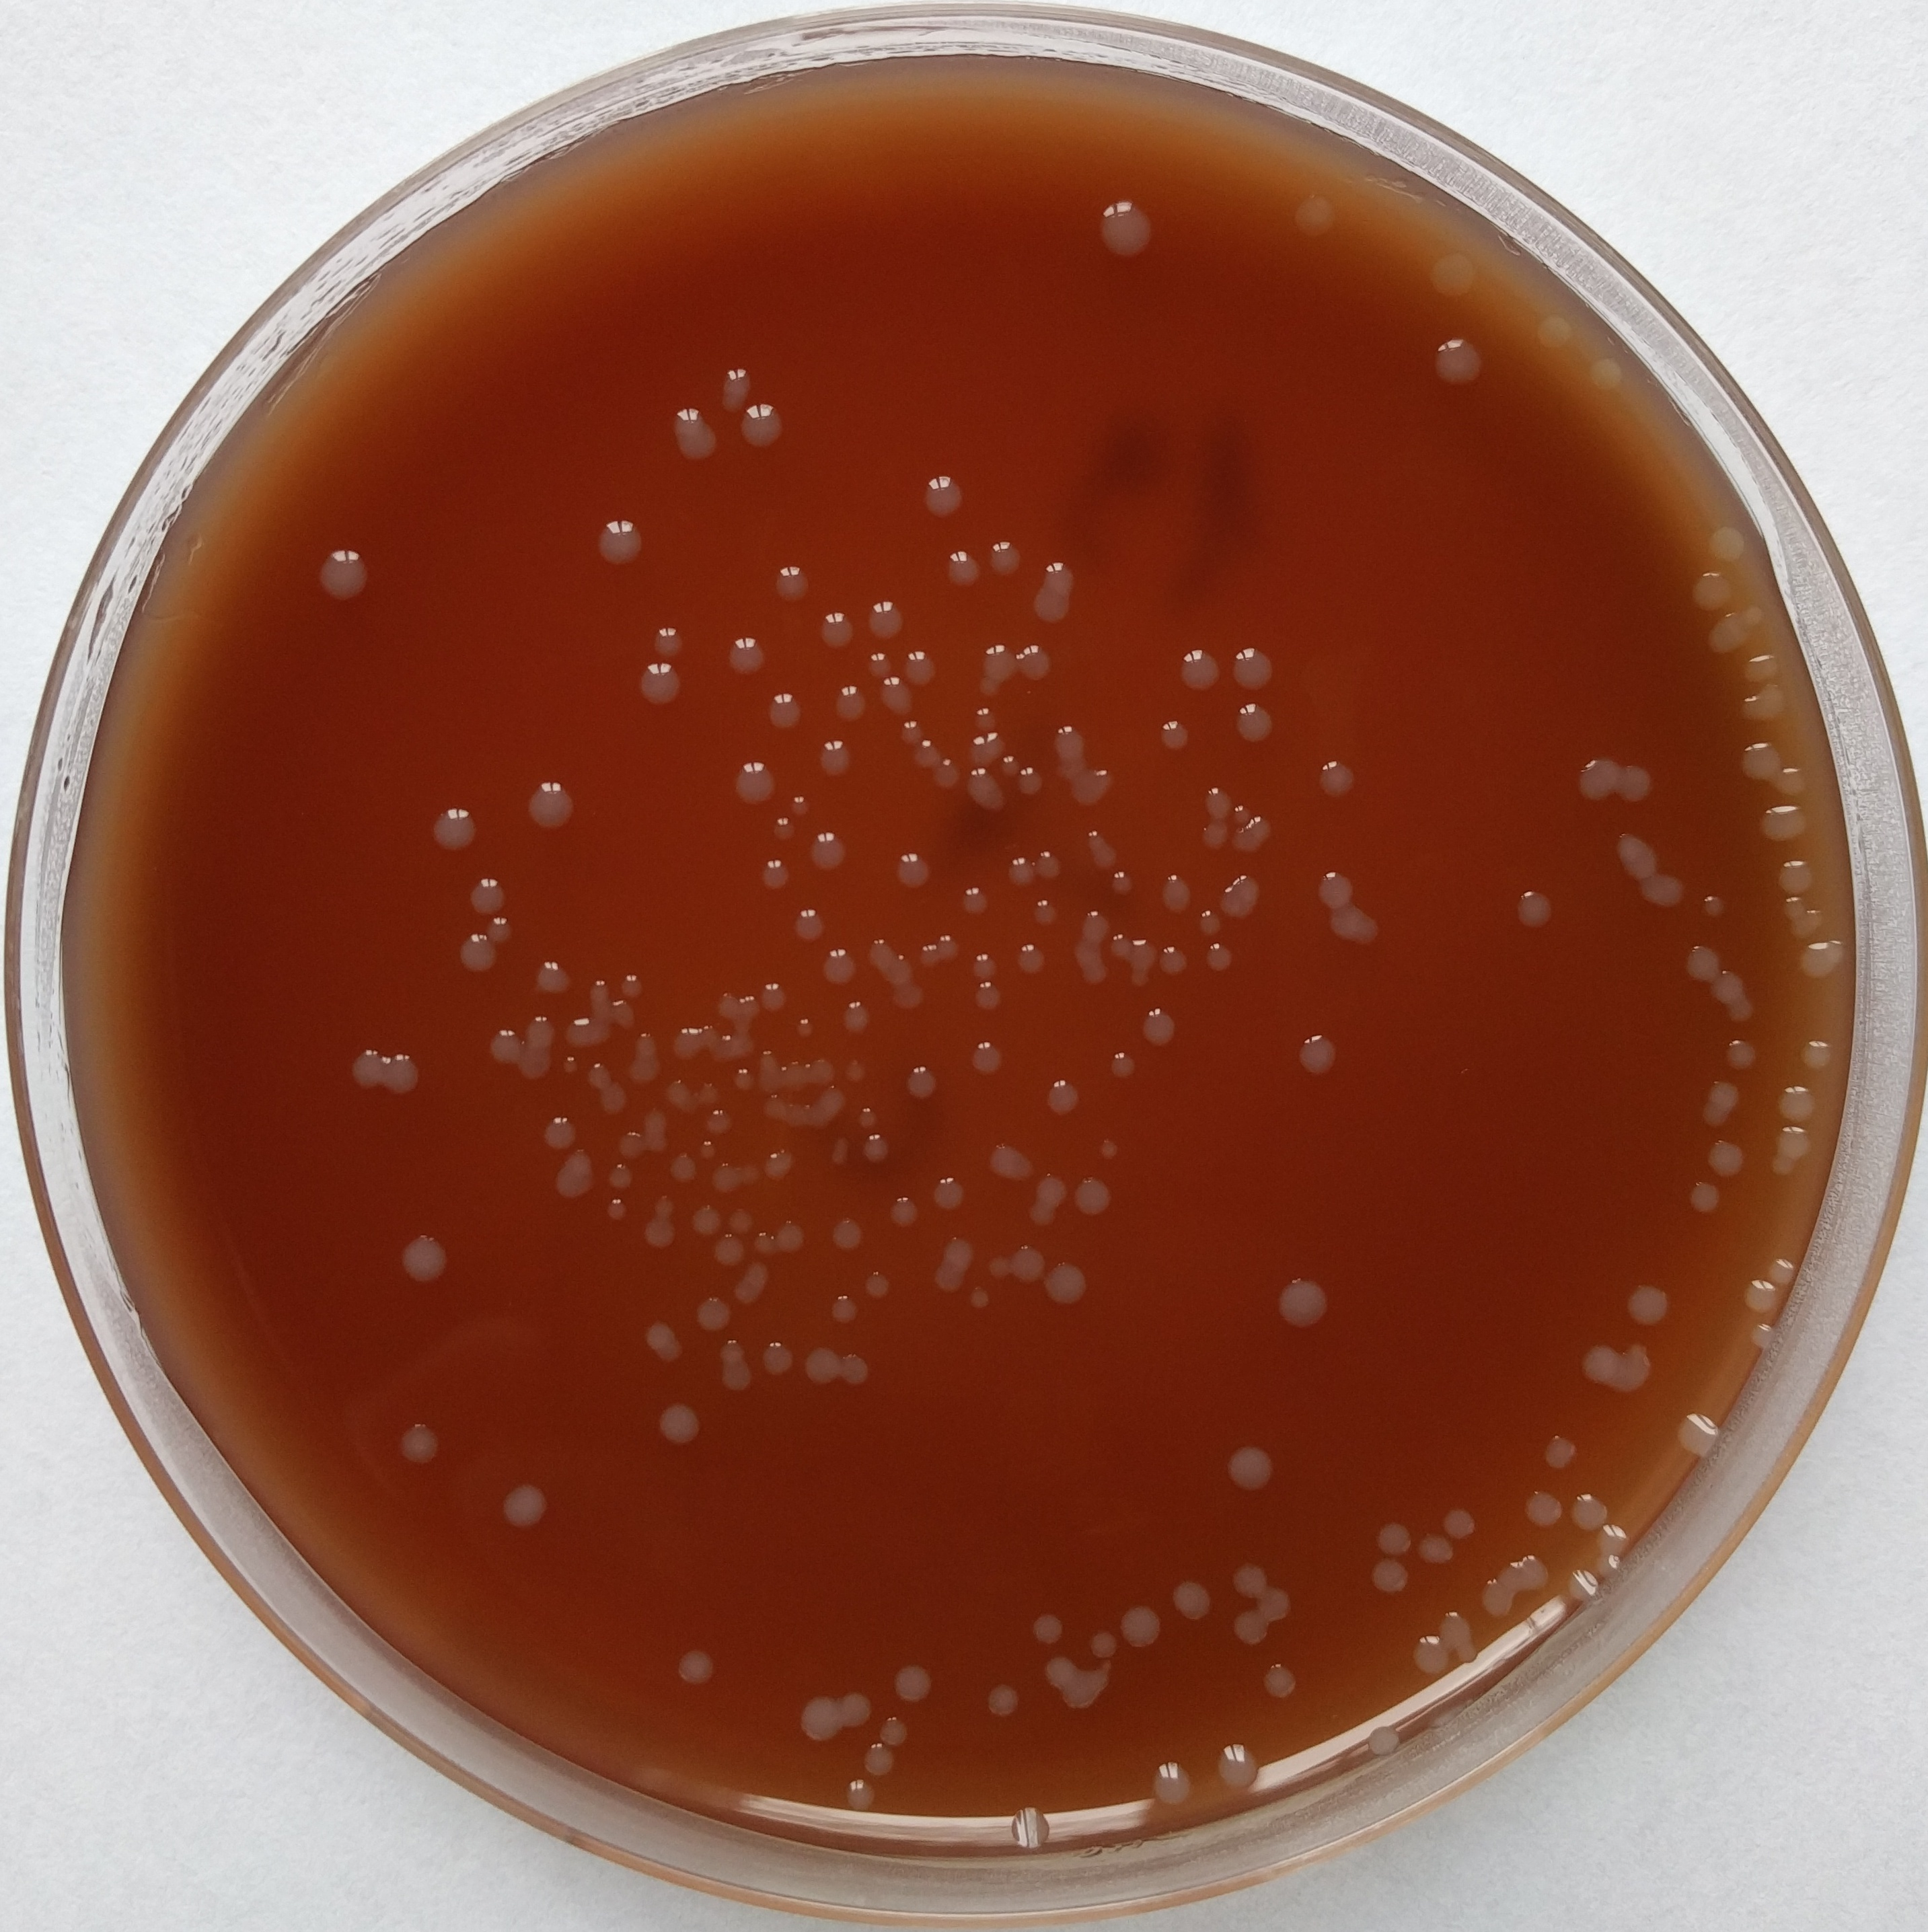sp16: (560, 978, 653, 1056), (1088, 184, 1162, 267), (302, 546, 383, 611), (1031, 1655, 1121, 1713), (667, 1021, 761, 1075), (517, 772, 583, 837), (493, 1476, 560, 1540), (579, 517, 655, 572), (659, 401, 729, 459), (1607, 816, 1665, 887), (1753, 789, 1820, 849), (542, 1148, 604, 1211), (1428, 332, 1488, 396), (392, 1231, 459, 1287), (1273, 1275, 1335, 1335), (1216, 1445, 1285, 1498), (1626, 864, 1691, 918), (800, 819, 855, 885), (766, 556, 832, 609), (734, 397, 793, 456), (1621, 1277, 1679, 1335), (1421, 245, 1481, 302), (1225, 639, 1287, 694), (1172, 641, 1231, 698), (999, 1800, 1056, 1858), (1287, 189, 1342, 249), (1209, 1736, 1264, 1796), (726, 756, 780, 816), (388, 1418, 450, 1471), (1116, 1595, 1171, 1653), (422, 802, 482, 855), (918, 468, 969, 530), (1789, 931, 1852, 980), (1702, 600, 1757, 657), (1670, 1407, 1725, 1464), (1736, 676, 1796, 728), (1287, 1026, 1347, 1077), (1144, 1755, 1199, 1810), (791, 1692, 846, 1747), (1570, 749, 1621, 807), (1474, 1559, 1520, 1623), (1563, 1487, 1615, 1542), (1432, 1607, 1480, 1667), (630, 1319, 690, 1367), (346, 1044, 394, 1104), (1610, 1339, 1656, 1400), (796, 1342, 849, 1395), (883, 1660, 939, 1709), (1308, 751, 1367, 798), (1367, 1517, 1425, 1565), (860, 599, 913, 650), (1517, 1485, 1570, 1536), (1165, 1575, 1218, 1626), (810, 602, 867, 650), (959, 763, 1006, 819), (1322, 901, 1381, 947), (1008, 639, 1068, 683), (976, 1143, 1036, 1187), (722, 630, 773, 682), (1003, 1240, 1054, 1291), (1231, 800, 1280, 853), (964, 1035, 1017, 1084), (828, 678, 876, 733), (1066, 929, 1114, 984), (1676, 929, 1721, 985), (648, 1400, 704, 1446), (664, 1644, 724, 1687), (936, 542, 983, 595), (1533, 1429, 1585, 1476), (629, 657, 683, 703), (713, 989, 759, 1044), (659, 1074, 717, 1116), (710, 367, 761, 415), (1040, 551, 1088, 602), (874, 671, 922, 722), (1734, 735, 1781, 786), (1771, 758, 1822, 805), (1045, 1257, 1091, 1310), (892, 846, 938, 899), (1232, 698, 1282, 745), (1139, 1005, 1188, 1053), (463, 876, 512, 924), (1774, 848, 1819, 901), (1312, 867, 1365, 911), (1211, 872, 1266, 915), (1686, 563, 1732, 613), (1589, 348, 1633, 399), (975, 638, 1026, 682), (756, 1339, 800, 1390), (1787, 1031, 1840, 1074), (1365, 1552, 1418, 1595), (1250, 1586, 1303, 1628), (634, 1107, 676, 1160), (1578, 1335, 1619, 1390), (1702, 1134, 1750, 1180), (480, 1023, 526, 1070), (786, 906, 833, 952), (1737, 638, 1787, 682), (1227, 1554, 1277, 1598), (763, 683, 805, 735), (706, 1160, 757, 1203), (899, 646, 943, 694), (1255, 1658, 1303, 1702), (1028, 588, 1077, 630), (1432, 1505, 1488, 1542), (1536, 309, 1571, 367), (1683, 1176, 1728, 1220), (976, 1678, 1022, 1722), (1409, 1634, 1451, 1681), (927, 1169, 969, 1217), (1068, 1174, 1116, 1217), (814, 947, 862, 989), (955, 878, 998, 925), (1075, 825, 1118, 872), (966, 722, 1008, 770), (860, 1127, 904, 1171), (1510, 879, 1555, 922), (835, 1768, 881, 1810), (685, 1291, 731, 1333), (381, 1051, 424, 1097), (452, 934, 494, 980), (1028, 1607, 1075, 1648), (832, 1687, 879, 1727), (1741, 1270, 1780, 1319), (839, 1346, 877, 1395), (1156, 936, 1195, 985), (1776, 1113, 1813, 1164), (636, 1211, 687, 1249), (1038, 1072, 1082, 1114), (768, 1217, 812, 1259), (983, 533, 1024, 579), (1787, 897, 1833, 938), (1102, 1044, 1148, 1084), (1068, 766, 1114, 807), (535, 957, 574, 1005), (1156, 871, 1195, 918), (639, 618, 696, 650), (855, 1743, 897, 1785), (826, 1287, 869, 1330), (899, 1058, 941, 1100), (1151, 713, 1195, 754), (883, 1194, 927, 1234), (1043, 721, 1088, 761), (1704, 525, 1750, 563), (934, 1233, 980, 1272), (757, 1144, 803, 1183), (814, 736, 851, 784), (756, 855, 796, 897), (999, 851, 1042, 892), (1721, 1031, 1760, 1075), (1416, 1526, 1460, 1565), (535, 1111, 579, 1150), (517, 1040, 556, 1084), (1227, 1609, 1273, 1646), (1365, 1718, 1405, 1759), (1013, 936, 1054, 977), (968, 975, 1006, 1017), (1773, 1083, 1817, 1120), (856, 1268, 902, 1303), (1700, 1075, 1748, 1109), (837, 996, 877, 1035), (715, 1356, 757, 1393), (625, 1049, 667, 1086), (1684, 1097, 1730, 1130), (1709, 964, 1741, 1012), (1123, 934, 1162, 973), (1520, 1547, 1557, 1588), (708, 1231, 749, 1268), (689, 1199, 729, 1236), (1028, 892, 1065, 932), (1197, 811, 1232, 853), (923, 1259, 966, 1294), (1028, 842, 1063, 885), (1105, 858, 1141, 901), (1192, 901, 1227, 943), (1718, 991, 1764, 1023), (1202, 941, 1241, 978), (1563, 1566, 1603, 1602), (892, 971, 927, 1012), (835, 1211, 869, 1254), (1049, 751, 1093, 782), (1764, 1254, 1803, 1289), (1017, 761, 1052, 800), (1197, 781, 1231, 821), (1082, 1628, 1123, 1662), (667, 1148, 699, 1190), (932, 924, 964, 966), (823, 1134, 858, 1171), (812, 1081, 847, 1118), (1073, 908, 1111, 943), (879, 1717, 913, 1755), (604, 1157, 637, 1196), (1123, 962, 1158, 998), (862, 645, 899, 678), (749, 1226, 782, 1263), (523, 1014, 556, 1051), (484, 909, 517, 947), (1593, 1519, 1631, 1551), (729, 1280, 768, 1312), (932, 752, 964, 791), (1619, 761, 1649, 802), (973, 947, 1003, 987), (1019, 1196, 1061, 1224), (1033, 1173, 1070, 1204), (779, 1093, 810, 1130), (715, 1337, 759, 1363), (975, 669, 1015, 698), (595, 1083, 627, 1118), (863, 932, 893, 970), (839, 1054, 877, 1083), (756, 980, 795, 1008), (648, 1183, 680, 1217), (581, 1058, 614, 1090), (613, 970, 650, 998), (913, 941, 939, 980), (851, 1098, 883, 1130), (602, 1192, 634, 1224), (704, 1107, 736, 1139), (895, 715, 927, 747), (787, 791, 817, 825), (881, 955, 911, 989), (786, 1012, 821, 1040), (623, 1030, 659, 1058), (757, 1095, 784, 1132), (983, 1252, 1015, 1282), (726, 1204, 757, 1234), (729, 1060, 757, 1093), (803, 1093, 830, 1128), (1744, 1319, 1774, 1349), (1096, 1132, 1126, 1162), (911, 738, 941, 768), (692, 1132, 720, 1164), (1769, 1150, 1797, 1180), (1700, 888, 1732, 915), (614, 1130, 646, 1157), (770, 812, 802, 839), (969, 698, 998, 726), (966, 1286, 994, 1314), (1593, 1547, 1619, 1577), (1109, 929, 1139, 955), (1778, 892, 1808, 917), (743, 1257, 773, 1280), (1736, 602, 1762, 625), (994, 751, 1020, 774), (554, 1049, 583, 1070), (1224, 798, 1252, 811)
